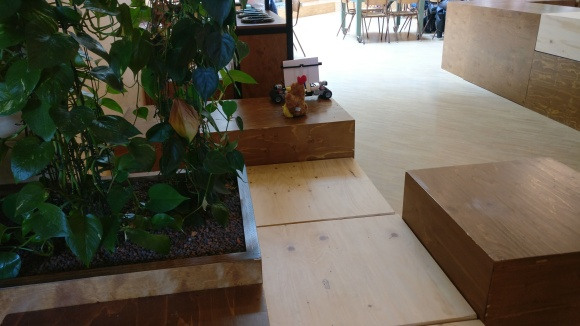chicken: (280, 73, 309, 119)
